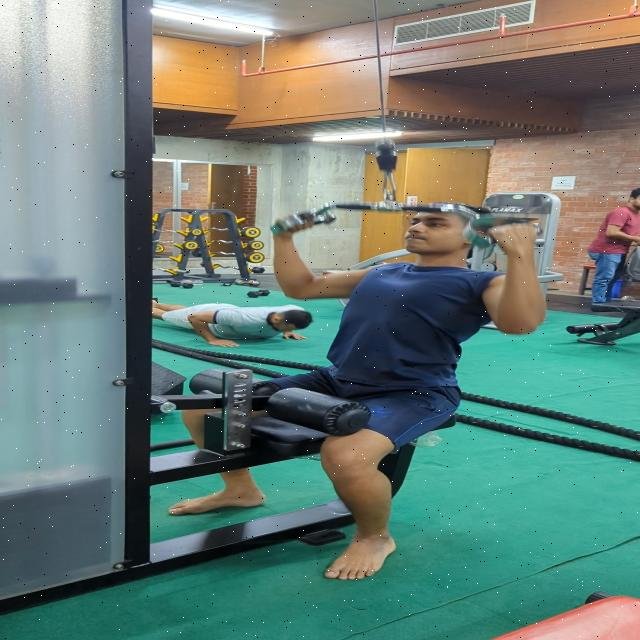Normal_LatPulldown: (160, 170, 575, 592)
